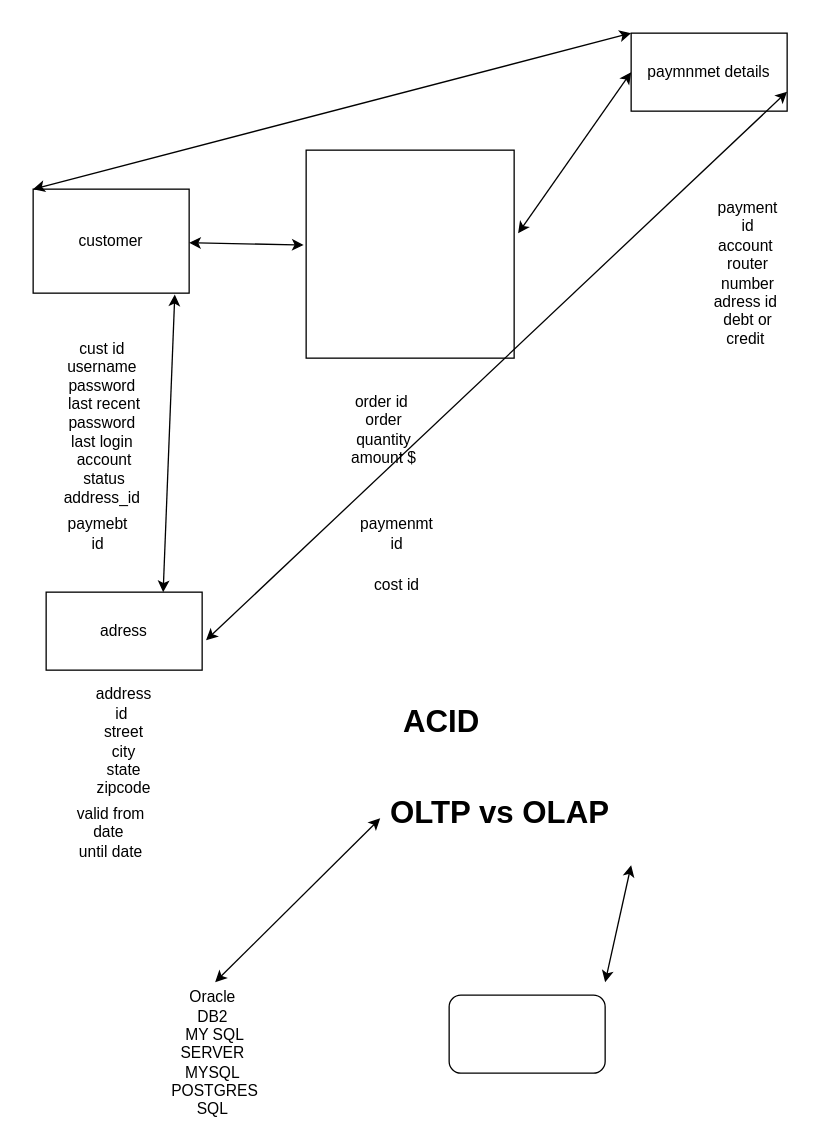
The diagram is 822 pixels wide and 1141 high, and some of its shapes have lost their labels. Here are the shapes that lost their labels. From the top down, the centre of each, then its label:
the point at 409,253: orders
the point at 526,1033: ORACLE TERADATA BIGQUERY DATABRICKS REDSHIFT SNOWFLAKE
